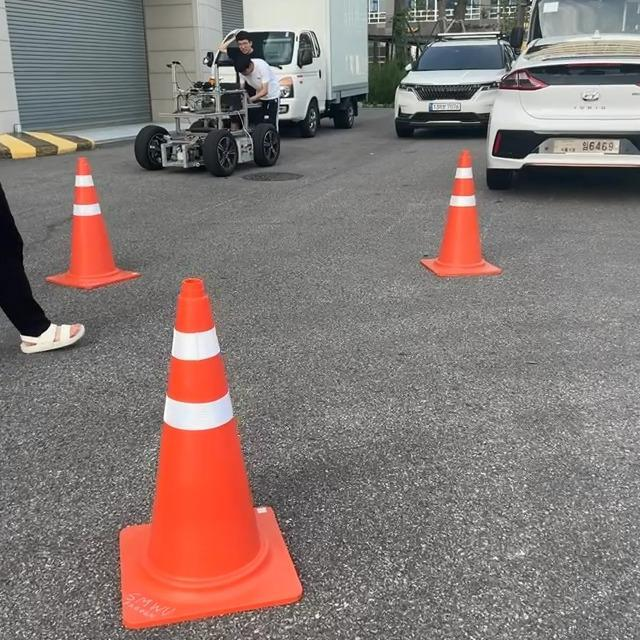fallen_object: (133, 248, 278, 632), (0, 125, 144, 283), (407, 143, 531, 297)
